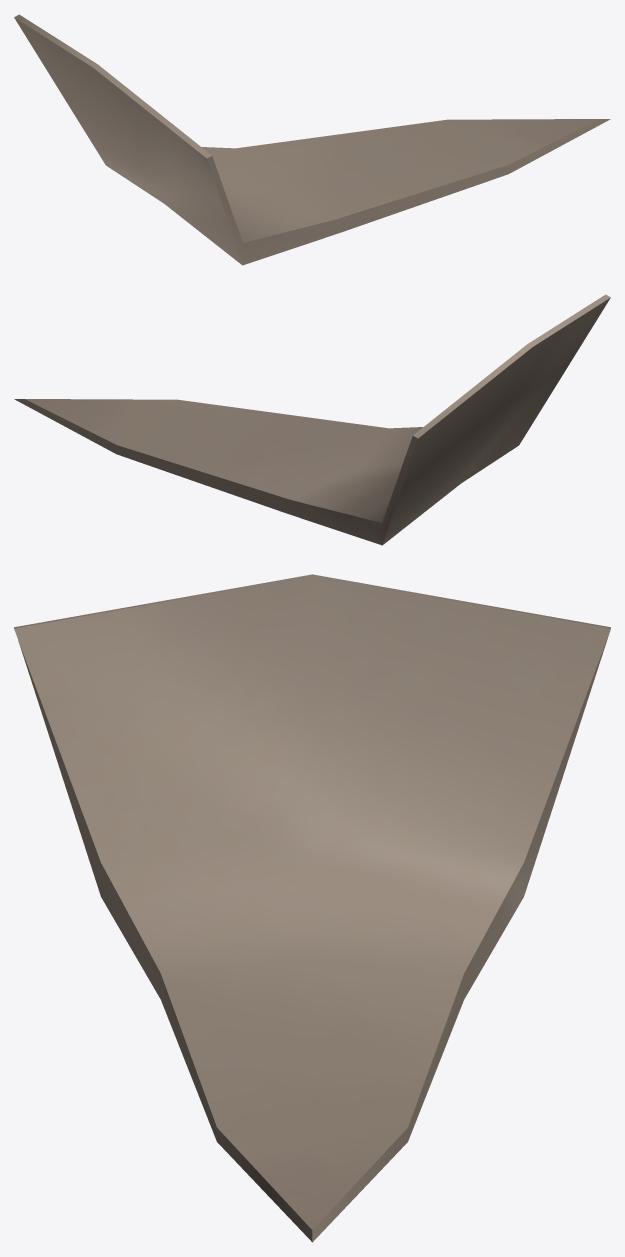
File: Bowl Shard 1.fbx
3 renders of one model, top to bottom at view 1: azimuth 30°, elevation 25°; view 2: azimuth 150°, elevation 25°; view 3: azimuth 270°, elevation 25°, orthographic. The views are drawn at different scales.
Visible parts, largest first — view 1: pCube1; view 2: pCube1; view 3: pCube1.
Boxes of the visible parts, x1,y1,x2,y2 form: pCube1: (14, 14, 610, 265); pCube1: (14, 294, 610, 545); pCube1: (14, 574, 610, 1242).
Bounding box in the file's own units: 7.7 × 2.56 × 4.96.
1 material, 1 textured.
